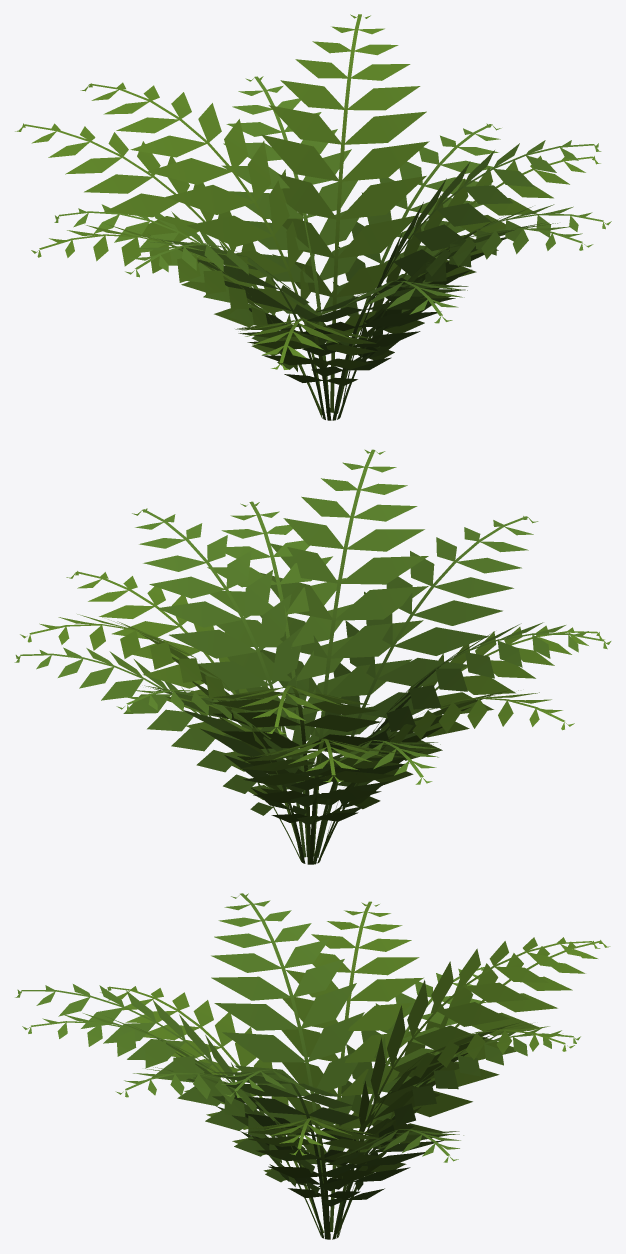
Rendered from fern.glb.
The picture shows the model from 3 angles, top to bottom: view 1: azimuth 30°, elevation 25°; view 2: azimuth 150°, elevation 25°; view 3: azimuth 270°, elevation 25°; orthographic projection. The views are drawn at different scales.
Visible parts, largest first — view 1: LOD0; view 2: LOD0; view 3: LOD0.
Boxes of the visible parts, x1,y1,x2,y2 form: LOD0: [15, 14, 611, 420]; LOD0: [14, 449, 611, 864]; LOD0: [15, 893, 610, 1239].
Size of what is drawn, in the model's own units: 1.29 by 0.6455 by 1.32.
